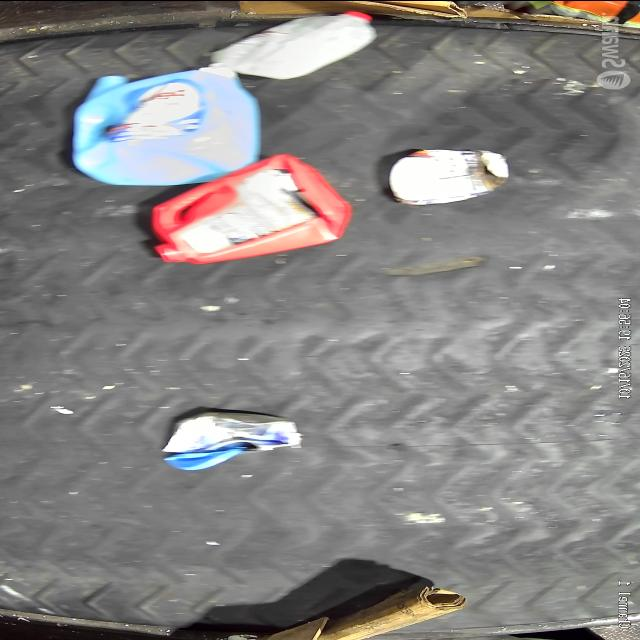can: (159, 412, 308, 478), (376, 151, 520, 208)
milk_jug: (209, 4, 377, 78)
non_white_jug: (136, 148, 362, 268), (59, 61, 264, 185)
